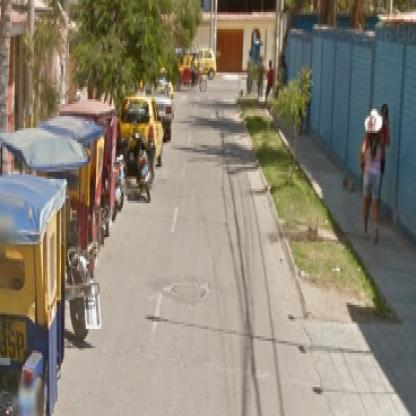Peaton: (360, 105, 384, 245), (266, 59, 275, 100)
Pista: (12, 83, 325, 410)
Vehiculo: (1, 173, 69, 412), (119, 90, 166, 175), (173, 49, 208, 93)
